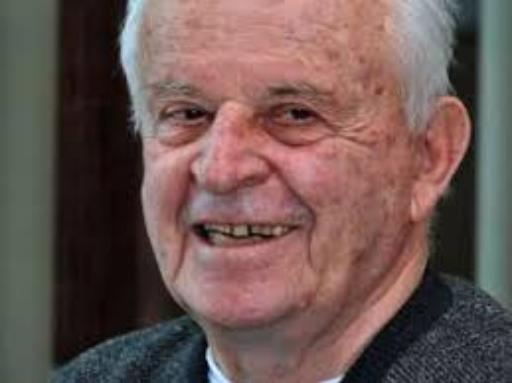left_eye: (267, 106, 329, 129)
left_lip_corner: (287, 220, 313, 240)
right_eye: (163, 108, 212, 128)
right_lip_corner: (187, 218, 204, 238)
